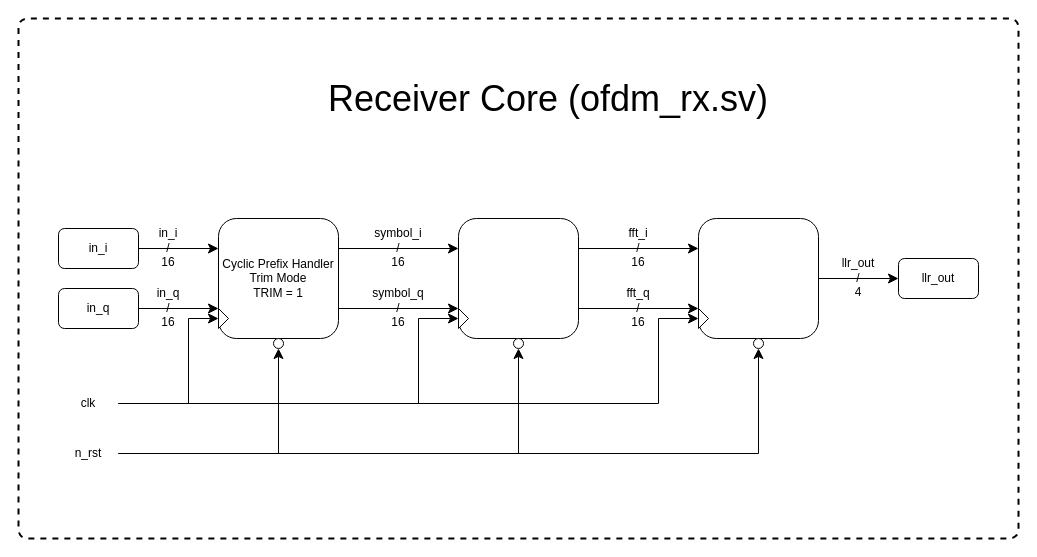
This 1037x557 diagram has some shape labels left out. Here are the shapes that lost their labels. From the top down, the centre of each, then its label:
(518,278): FFT Core FFT Mode INVERSE = 0
(758,278): QPSK Demapper
